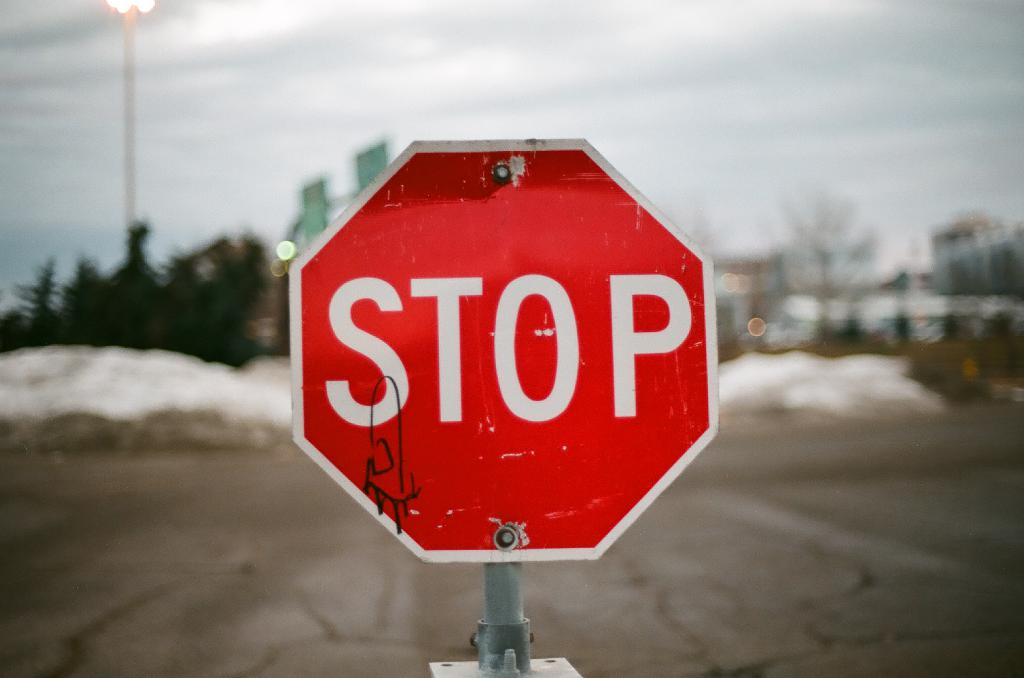stop_sign: (295, 135, 718, 558)
